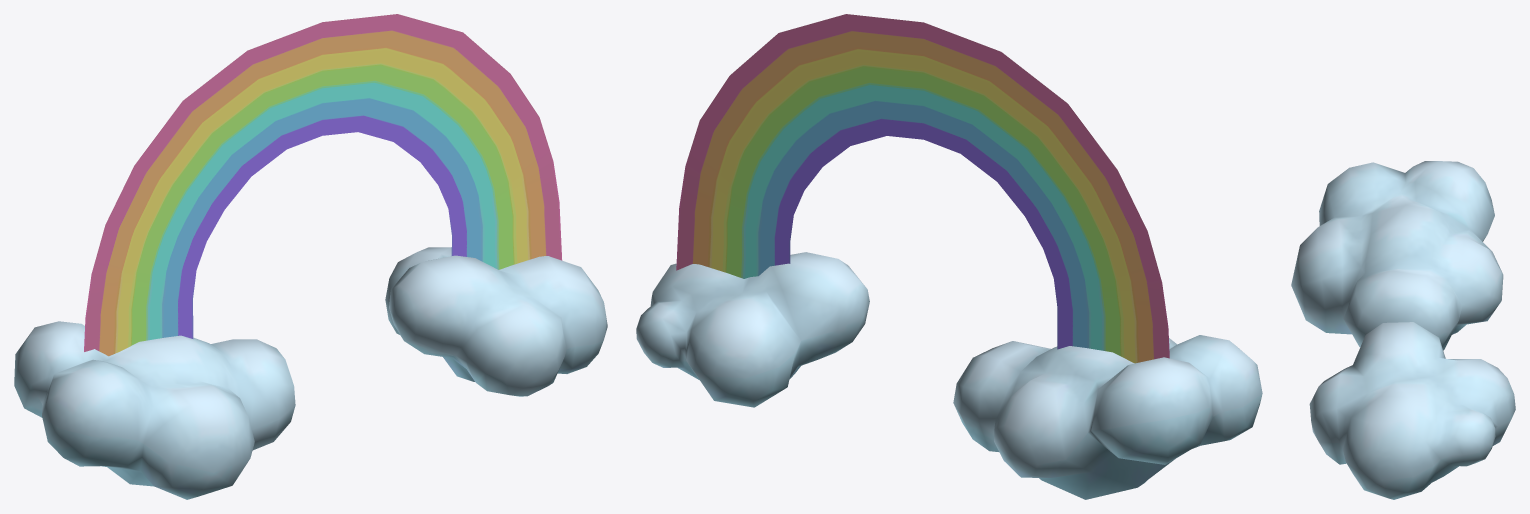
The model's file is int_mon_06.dae.
3 renders of one model, left to right at view 1: azimuth 30°, elevation 25°; view 2: azimuth 150°, elevation 25°; view 3: azimuth 270°, elevation 25°, orthographic. The views are drawn at different scales.
Parts seen in each view (by area): view 1: int_mon_06; view 2: int_mon_06; view 3: int_mon_06.
Boxes of the visible parts, x1,y1,x2,y2 form: int_mon_06: (14,14,607,499); int_mon_06: (636,14,1262,499); int_mon_06: (1291,161,1515,499).
Bounding box in the file's own units: 61.05 × 42.9 × 23.19.
2 materials, 2 textured.
